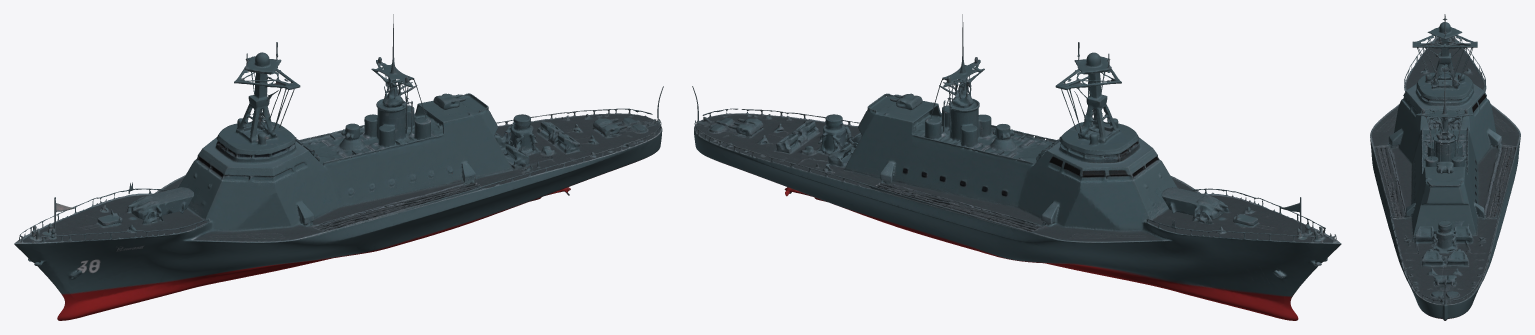
File: bishop_black.glb
3 renders of one model, left to right at view 1: azimuth 30°, elevation 25°; view 2: azimuth 150°, elevation 25°; view 3: azimuth 270°, elevation 25°, orthographic. The views are drawn at different scales.
Visible parts, largest first — view 1: mesh_node; view 2: mesh_node; view 3: mesh_node.
Boxes of the visible parts, x1=… form: mesh_node: x1=14, y1=14, x2=663, y2=320; mesh_node: x1=692, y1=14, x2=1341, y2=320; mesh_node: x1=1370, y1=14, x2=1520, y2=320.
Bounding box in the file's own units: 1.9 × 0.632 × 0.4848.
Materials: 1 (1 with a texture image).
